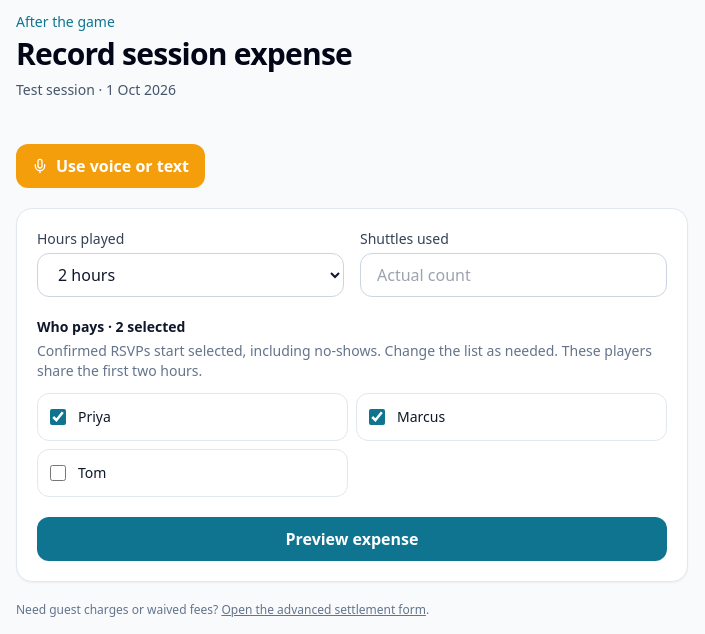
Test: Expense form › discards a preview response after the inputs have changed
Type "8" into the number field labelled "Shuttles used". click: (514, 275)
box: [360, 253, 667, 297]
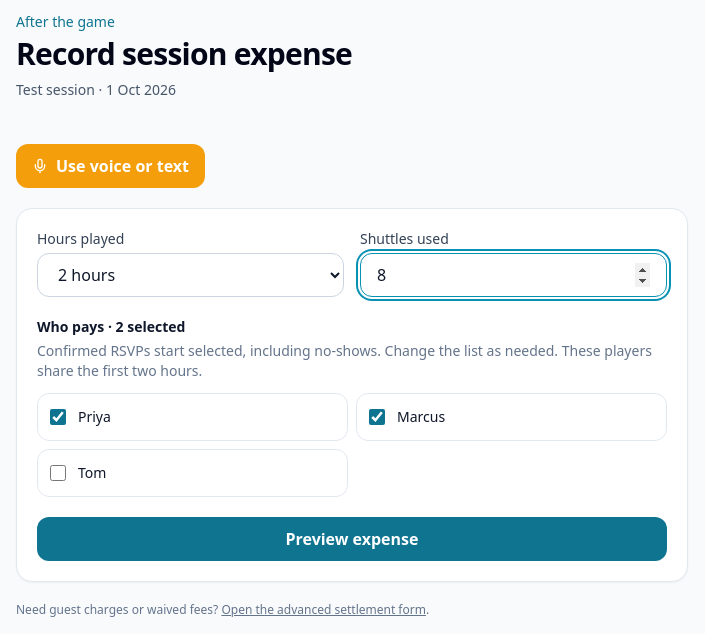
Click the button "Preview expense". click: (352, 539)
box: [37, 517, 667, 561]
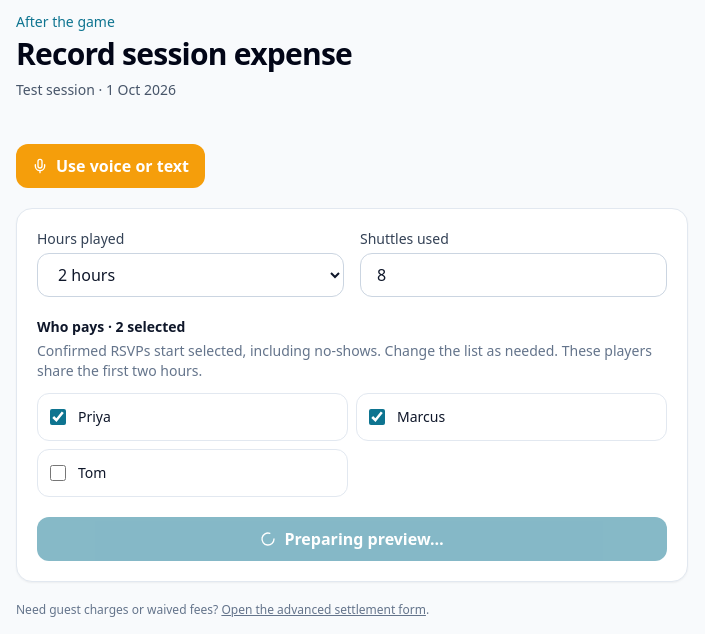
Clear the number field labelled "Shuttles used". click: (514, 275)
box: [360, 253, 667, 297]
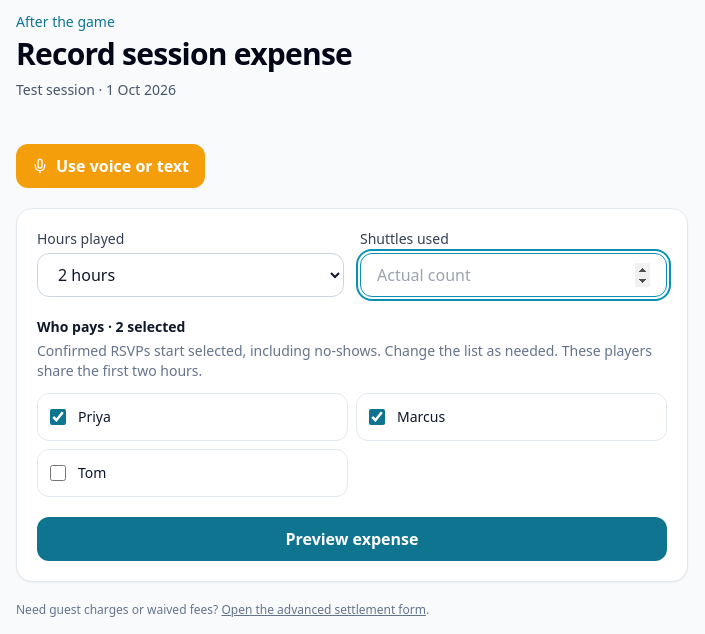
Check: the button "Preview expense" is enabled, box [37, 517, 667, 561]
